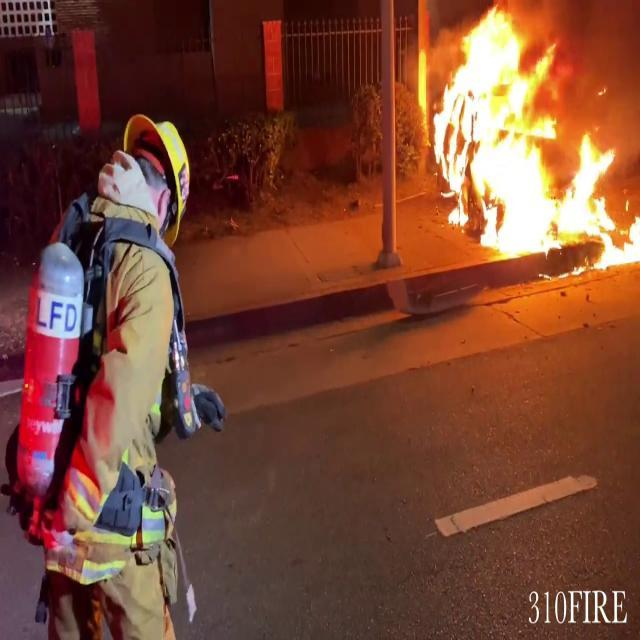Fire: (424, 2, 640, 266)
